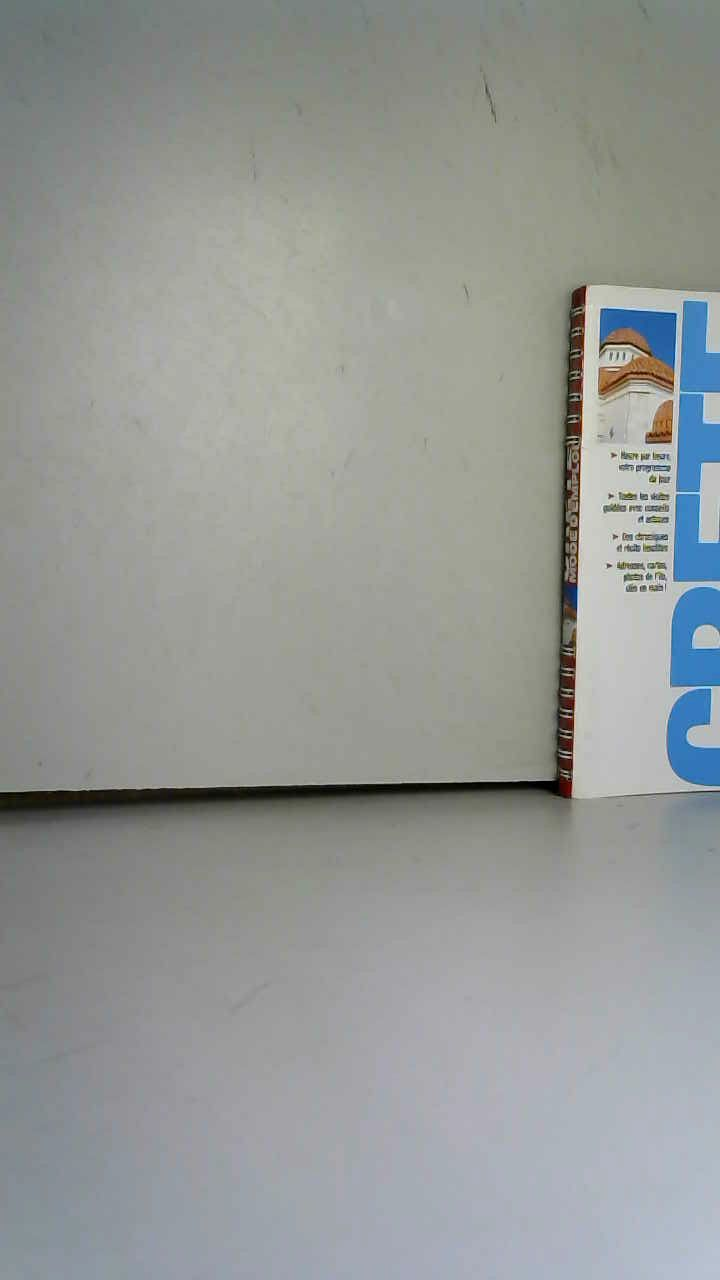book: (517, 260, 720, 823)
